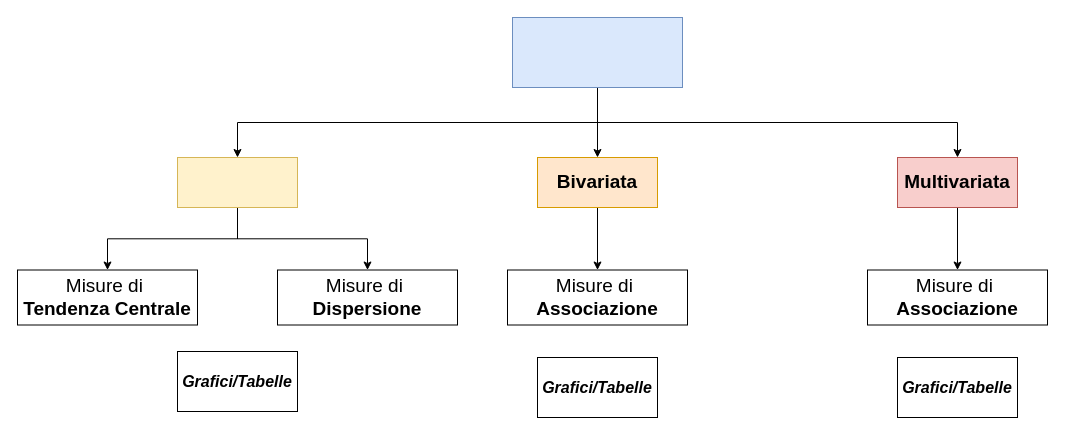
The diagram is 1065 pixels wide and 435 high, and some of its shapes have lost their labels. Each missing label, with the centre of its shape:
"Exploratory Data Analysis" belongs at (x=597, y=52).
"Univariata" belongs at (x=237, y=182).
